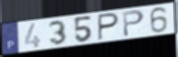3: (47, 19, 68, 45)
4: (24, 22, 42, 50)
5: (74, 14, 93, 44)
6: (149, 6, 169, 34)
P: (122, 9, 146, 39), (96, 12, 120, 42)
